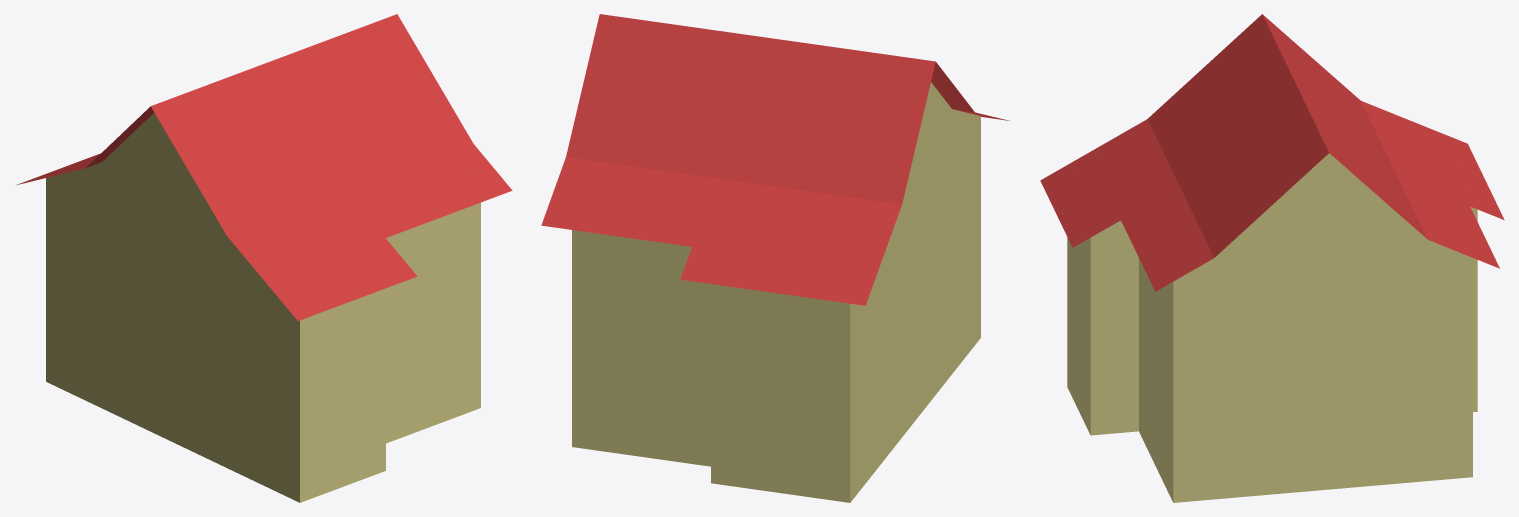
3 renders of one model, left to right at view 1: azimuth 30°, elevation 25°; view 2: azimuth 150°, elevation 25°; view 3: azimuth 270°, elevation 25°, orthographic. The views are drawn at different scales.
Bounding box in the file's own units: 13.26 × 15.16 × 12.47.
